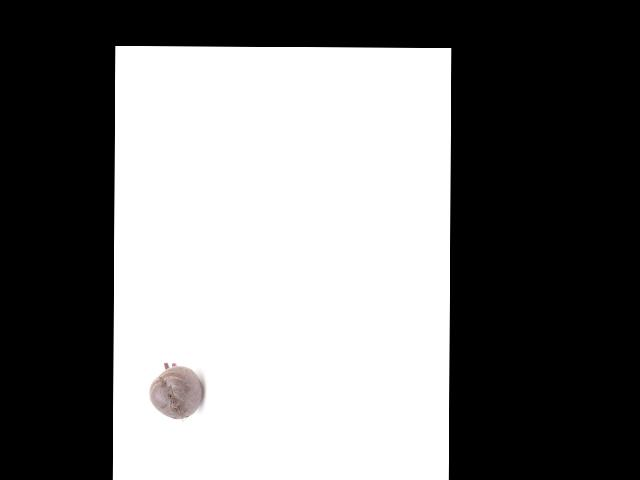beet: (149, 363, 204, 419)
